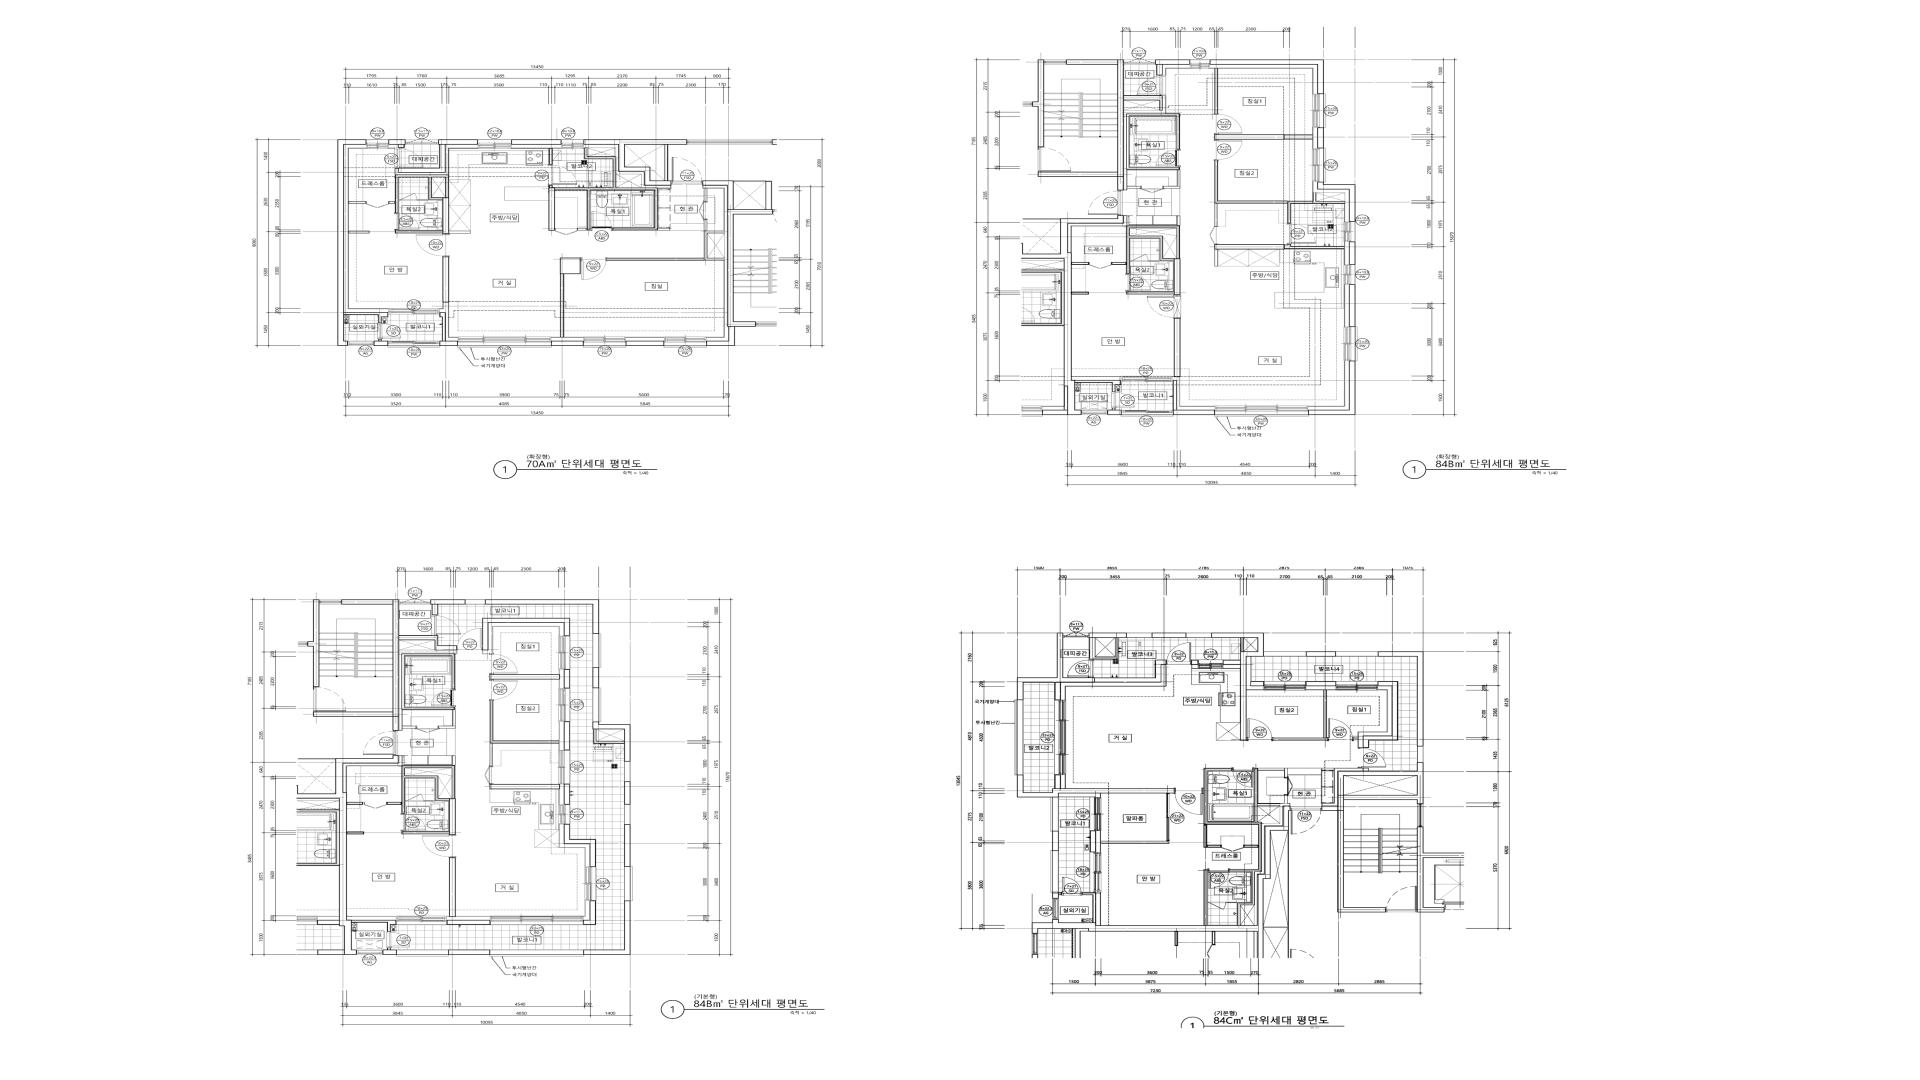door: (1291, 807, 1321, 835), (671, 157, 703, 183), (1088, 190, 1121, 215), (363, 731, 396, 756), (313, 687, 345, 712), (1174, 789, 1204, 815), (1147, 295, 1180, 319), (1038, 148, 1071, 171), (415, 233, 448, 257), (422, 835, 455, 857), (549, 165, 578, 186), (456, 628, 483, 650), (1246, 719, 1273, 741), (1328, 719, 1354, 741), (1288, 223, 1316, 244), (1215, 140, 1242, 161), (1215, 113, 1242, 135), (489, 679, 517, 700), (1137, 75, 1166, 95), (394, 148, 423, 167), (431, 616, 460, 636), (1166, 642, 1191, 665), (580, 258, 607, 280), (1358, 748, 1386, 767), (489, 654, 517, 674), (1067, 659, 1095, 678), (591, 211, 613, 231), (1207, 869, 1229, 889), (1156, 149, 1180, 167), (402, 814, 426, 832), (1126, 274, 1151, 291), (1233, 767, 1254, 787), (431, 690, 455, 707), (1062, 877, 1083, 895), (1112, 392, 1134, 407), (378, 323, 401, 339), (386, 932, 409, 948), (1208, 902, 1237, 910), (1166, 794, 1170, 841), (484, 766, 493, 785), (1284, 777, 1292, 796), (365, 202, 389, 208), (1221, 845, 1244, 852), (1089, 262, 1112, 269), (1141, 186, 1163, 193), (555, 228, 578, 235), (364, 802, 386, 808), (699, 202, 707, 220), (405, 794, 423, 802), (417, 727, 438, 733), (400, 193, 417, 200), (1209, 227, 1217, 244), (1130, 255, 1149, 261)
wall: (1031, 806, 1290, 959), (607, 186, 728, 342), (313, 600, 456, 731), (1038, 59, 1163, 190), (1321, 762, 1424, 913), (1204, 767, 1290, 926), (1060, 215, 1124, 415), (339, 756, 400, 955), (703, 181, 773, 345), (338, 140, 388, 345), (1017, 633, 1166, 700), (555, 145, 671, 231), (1215, 161, 1345, 223), (1212, 633, 1265, 741), (1112, 225, 1180, 295), (584, 140, 687, 186), (386, 766, 455, 835), (489, 700, 559, 766), (400, 650, 456, 731), (1378, 651, 1424, 746), (1124, 95, 1166, 190), (1418, 827, 1464, 913), (1209, 59, 1324, 94), (485, 600, 599, 634), (1017, 775, 1174, 798), (1211, 65, 1317, 94), (1126, 113, 1180, 170), (401, 654, 455, 709), (394, 140, 477, 175), (1273, 690, 1328, 741), (483, 618, 570, 650), (1358, 682, 1398, 748), (483, 622, 564, 654), (1308, 361, 1356, 415), (584, 901, 630, 955), (1263, 831, 1288, 927), (1068, 215, 1127, 253), (389, 175, 448, 214), (343, 756, 402, 793), (551, 274, 583, 342), (1308, 361, 1349, 410), (1321, 767, 1364, 806), (1317, 182, 1356, 222), (592, 723, 630, 762), (1172, 380, 1215, 415), (1312, 182, 1349, 222), (1344, 775, 1418, 795), (563, 824, 596, 866), (1172, 377, 1215, 410), (559, 824, 589, 866), (1033, 59, 1044, 148), (512, 145, 562, 165), (439, 302, 458, 342), (1215, 244, 1345, 249), (1089, 638, 1118, 659), (439, 313, 458, 345), (313, 600, 319, 687), (430, 600, 465, 616), (1155, 59, 1191, 75), (1215, 135, 1312, 140), (707, 233, 725, 258), (1257, 806, 1280, 824), (1174, 318, 1180, 377), (489, 674, 560, 679), (489, 785, 560, 790), (438, 709, 455, 729), (560, 257, 580, 274), (583, 901, 596, 926), (1163, 170, 1180, 189), (450, 857, 455, 916), (549, 186, 555, 231), (1163, 65, 1191, 75), (624, 824, 630, 866), (1349, 285, 1356, 327), (587, 148, 616, 157), (512, 140, 562, 145), (1089, 831, 1101, 852), (1305, 682, 1336, 690), (443, 257, 448, 302), (447, 920, 491, 926), (1204, 869, 1208, 926), (1344, 285, 1349, 327), (448, 949, 489, 955), (1089, 633, 1126, 638), (347, 916, 396, 920), (394, 229, 443, 233), (563, 721, 570, 750), (443, 198, 448, 233), (1153, 633, 1187, 638), (1101, 841, 1170, 844), (1215, 69, 1218, 113), (447, 916, 491, 920), (1305, 651, 1336, 657), (1349, 241, 1356, 265), (559, 721, 564, 750), (624, 782, 630, 804), (626, 338, 663, 342), (626, 342, 663, 345), (1317, 128, 1324, 149), (592, 667, 599, 688), (563, 785, 570, 804), (583, 901, 589, 920), (1052, 831, 1059, 851), (1072, 377, 1121, 380), (551, 342, 583, 345), (1344, 241, 1349, 265), (389, 140, 405, 148), (563, 670, 570, 688), (1312, 128, 1317, 149), (1108, 407, 1121, 415), (382, 948, 397, 955), (373, 339, 388, 345), (665, 145, 667, 181), (559, 785, 563, 804), (559, 670, 563, 688), (1215, 249, 1218, 266), (1215, 203, 1217, 227), (1191, 661, 1199, 669), (448, 231, 471, 233), (348, 231, 369, 233), (348, 202, 365, 204), (733, 181, 766, 182), (389, 145, 398, 149), (1241, 638, 1244, 651), (1052, 893, 1059, 898), (452, 756, 455, 766), (1178, 216, 1180, 225), (423, 800, 434, 802), (417, 199, 427, 200), (1353, 738, 1358, 740), (1059, 893, 1062, 895), (1149, 261, 1159, 261)
window: (458, 338, 551, 348), (1215, 406, 1308, 417), (491, 916, 583, 926), (1055, 700, 1065, 775), (489, 949, 584, 956), (1015, 700, 1023, 775), (1089, 852, 1101, 893), (396, 916, 447, 926), (583, 338, 626, 348), (663, 338, 707, 348), (1312, 94, 1325, 128), (1344, 327, 1357, 361), (1312, 149, 1325, 182), (584, 866, 596, 901), (1089, 798, 1101, 831), (1050, 851, 1059, 893), (559, 750, 570, 785), (559, 636, 570, 670), (388, 342, 440, 348), (1121, 410, 1174, 417), (559, 688, 570, 721), (396, 949, 448, 956), (1336, 682, 1378, 690), (1263, 682, 1305, 690), (477, 140, 512, 149), (592, 688, 601, 723), (624, 866, 633, 901), (1050, 798, 1059, 831), (592, 634, 601, 667), (1121, 377, 1172, 382), (388, 309, 439, 314), (1344, 222, 1356, 241), (1344, 265, 1356, 285), (1199, 659, 1224, 669), (1336, 651, 1378, 657), (1263, 651, 1305, 657), (405, 138, 438, 145), (559, 804, 570, 824), (1124, 58, 1155, 65), (562, 140, 584, 149), (367, 140, 389, 149), (1191, 59, 1211, 69), (1063, 632, 1089, 638), (400, 599, 430, 604), (1418, 804, 1424, 827), (1081, 410, 1108, 415), (1052, 898, 1059, 919), (1126, 633, 1153, 638), (1187, 633, 1212, 638), (624, 762, 630, 782), (624, 804, 630, 824), (1044, 59, 1067, 65), (356, 951, 382, 955), (1418, 746, 1424, 762), (348, 342, 373, 345), (319, 600, 342, 604), (465, 600, 485, 604)
